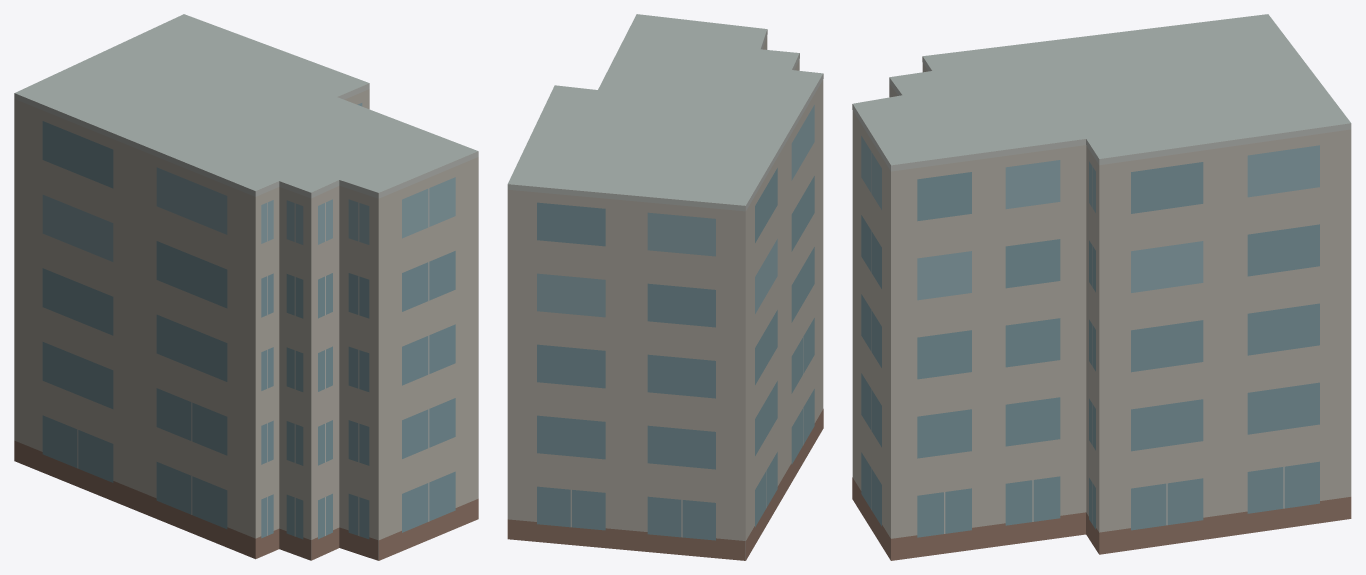
File: survey-upis-33006346.glb
The picture shows the model from 3 angles, left to right: view 1: azimuth 30°, elevation 25°; view 2: azimuth 150°, elevation 25°; view 3: azimuth 270°, elevation 25°; orthographic projection. The views are drawn at different scales.
Parts seen in each view (by area): view 1: survey-upis-33006346.tmp; view 2: survey-upis-33006346.tmp; view 3: survey-upis-33006346.tmp.
Part boxes in pixels (x1,y1,x2,y2): survey-upis-33006346.tmp: [14, 14, 478, 560]; survey-upis-33006346.tmp: [507, 14, 823, 560]; survey-upis-33006346.tmp: [852, 14, 1351, 560].
Bounding box in the file's own units: 12.84 × 15.63 × 17.88.
